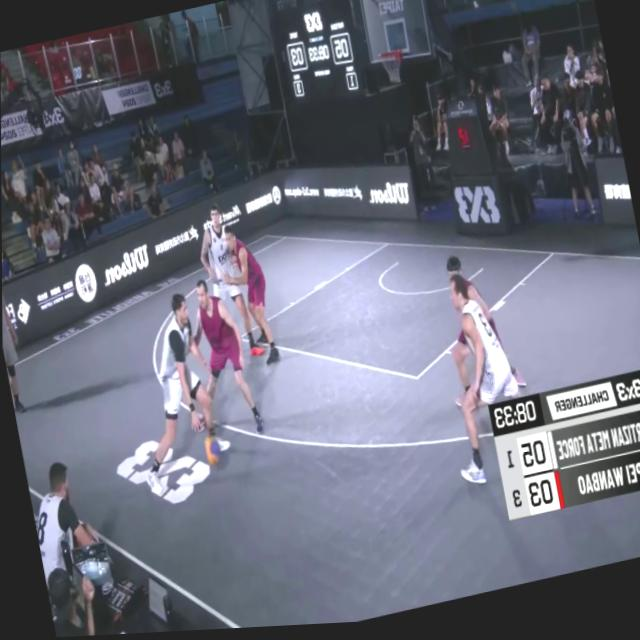ball: (197, 426, 226, 469)
hoop: (373, 49, 407, 95)
player: (422, 267, 539, 496), (119, 291, 227, 488), (429, 246, 532, 423), (174, 271, 263, 451), (190, 193, 264, 372), (212, 221, 281, 376)
